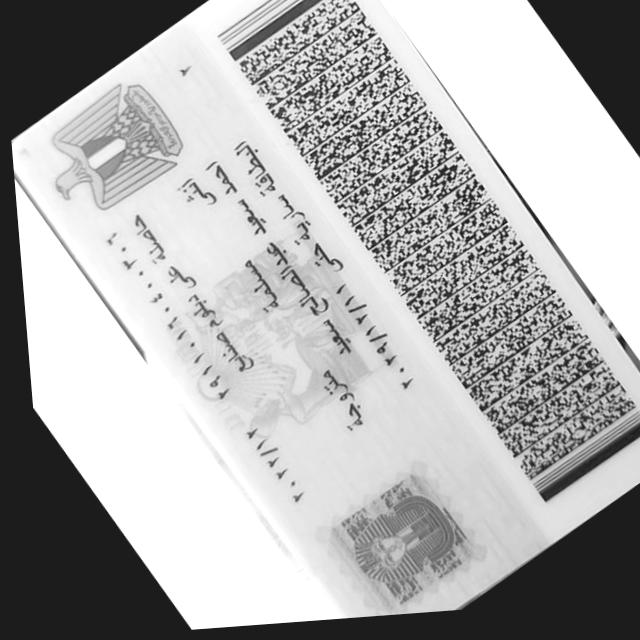id_card: (12, 0, 640, 618)
